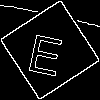E: (25, 25, 68, 77)
